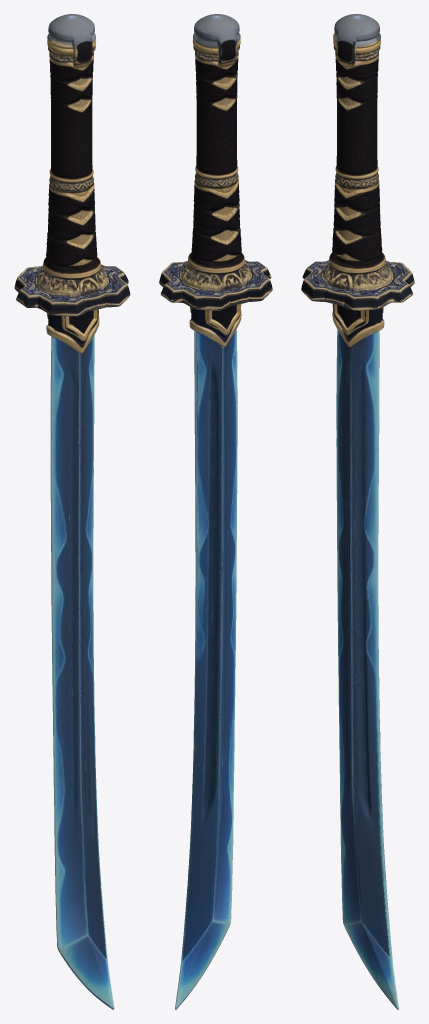
Rendered from weapon.glb.
The picture shows the model from 3 angles, left to right: view 1: azimuth 30°, elevation 25°; view 2: azimuth 210°, elevation 25°; view 3: azimuth 330°, elevation 25°; orthographic projection. The views are drawn at different scales.
Bounding box in the file's own units: 0.2044 × 1.9 × 0.1802.
Materials: 1 (1 with a texture image).
